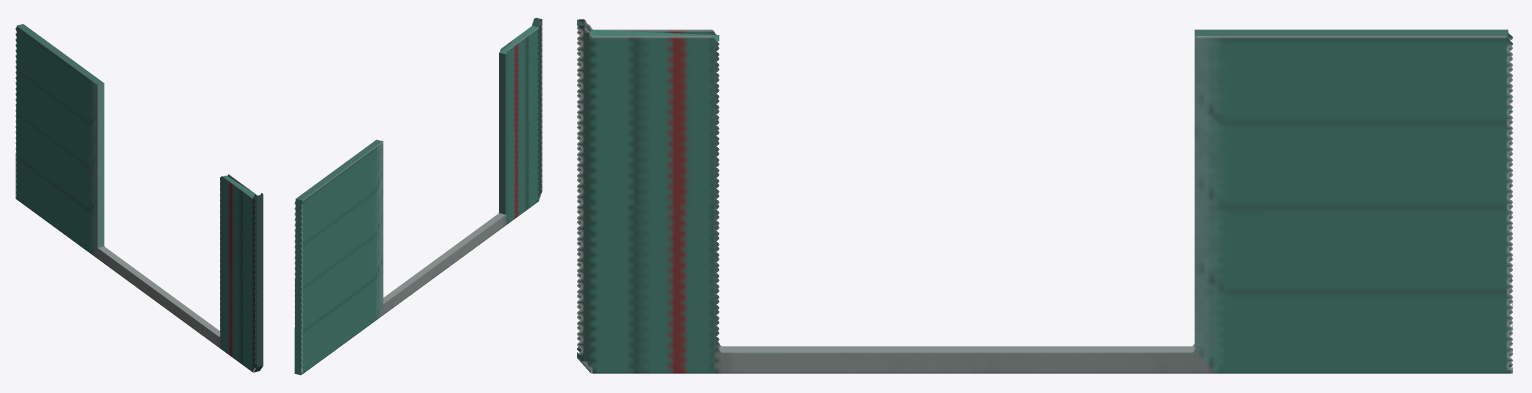
The model's file is pz_native_location_restaurant_diner_01_10_frame.obj.
The picture shows the model from 3 angles, left to right: view 1: azimuth 30°, elevation 25°; view 2: azimuth 150°, elevation 25°; view 3: azimuth 270°, elevation 25°; orthographic projection. The views are drawn at different scales.
Parts seen in each view (by area): view 1: pz_native_location_restaurant_diner_01_10_frame; view 2: pz_native_location_restaurant_diner_01_10_frame; view 3: pz_native_location_restaurant_diner_01_10_frame.
Boxes of the visible parts, bbox=[...] form: pz_native_location_restaurant_diner_01_10_frame: bbox=[15, 24, 263, 372]; pz_native_location_restaurant_diner_01_10_frame: bbox=[294, 17, 542, 375]; pz_native_location_restaurant_diner_01_10_frame: bbox=[577, 19, 1512, 373].
Bounding box in the file's own units: 0.04 × 1.06 × 2.54.
1 material, 1 textured.
